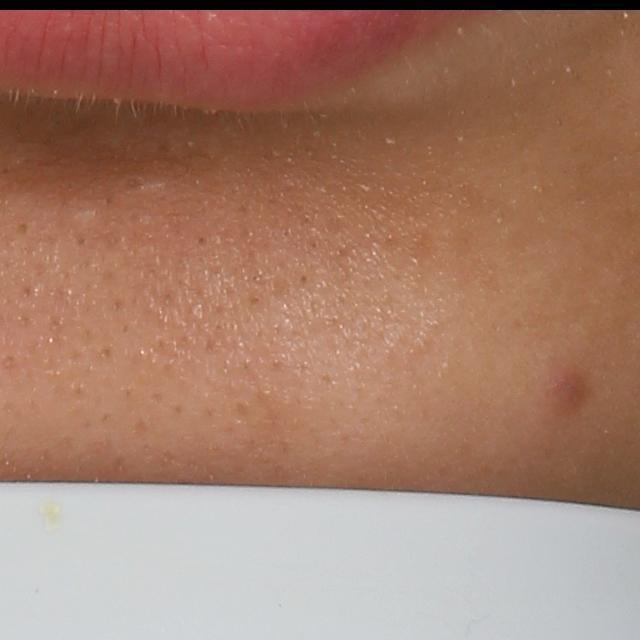comedo: (117, 170, 153, 198)
papule: (537, 363, 590, 425)
